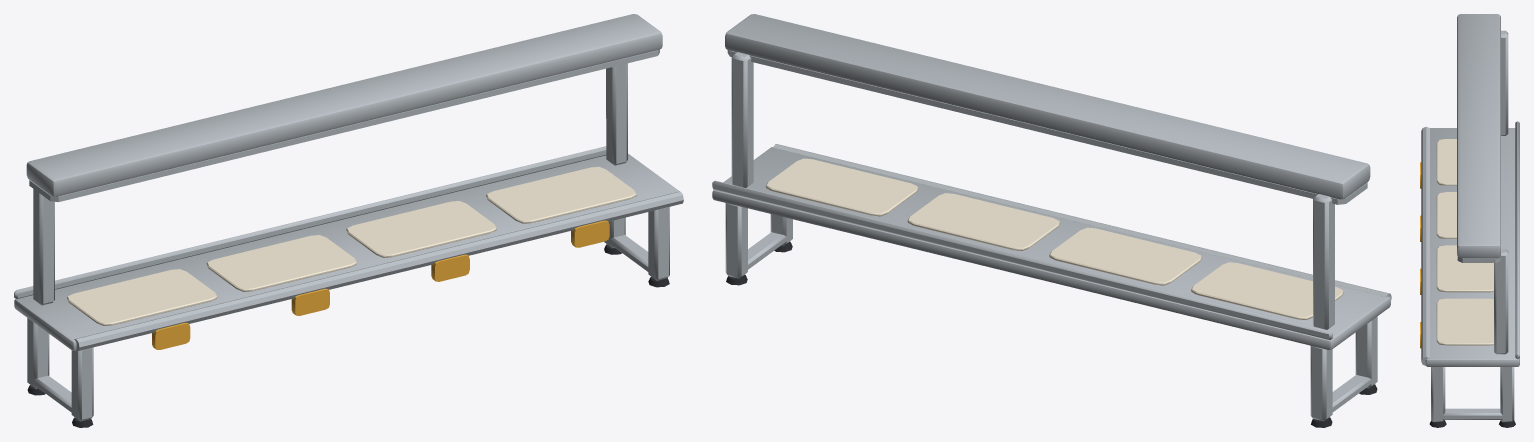
The model's file is Shop_PickupShelf.fbx.
The picture shows the model from 3 angles, left to right: view 1: azimuth 30°, elevation 25°; view 2: azimuth 150°, elevation 25°; view 3: azimuth 270°, elevation 25°; orthographic projection. The views are drawn at different scales.
Parts seen in each view (by area): view 1: Frame, Plates, Tab2, Tab3, Tab4, Tab1; view 2: Frame, Plates; view 3: Frame, Plates, Feet.
Boxes of the visible parts, left/top/right/bottom form: Frame: left=14, top=14, right=683, bottom=421; Plates: left=67, top=167, right=636, bottom=325; Tab2: left=291, top=288, right=329, bottom=315; Tab3: left=431, top=254, right=469, bottom=281; Tab4: left=571, top=220, right=609, bottom=247; Tab1: left=152, top=323, right=190, bottom=349; Frame: left=712, top=14, right=1391, bottom=421; Plates: left=765, top=158, right=1343, bottom=319; Frame: left=1421, top=14, right=1519, bottom=421; Plates: left=1436, top=139, right=1493, bottom=345; Feet: left=1429, top=420, right=1515, bottom=427.
Size of the model in its own units: 700 by 260 by 127.
